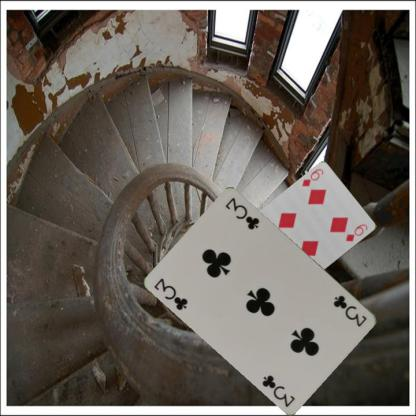3c: (331, 292, 369, 328), (152, 275, 189, 311)
6d: (299, 166, 325, 188)
